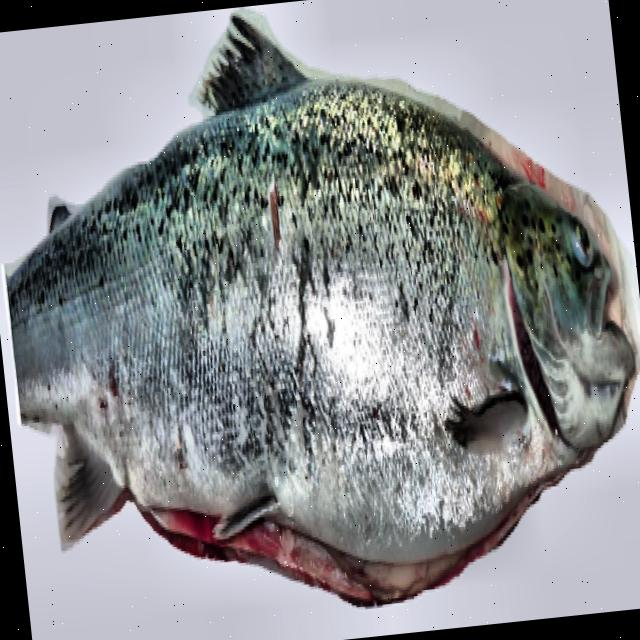mild_red: (6, 68, 573, 561)
wound: (139, 475, 560, 602)
